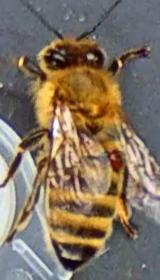varroa_mite: (100, 141, 136, 172)
